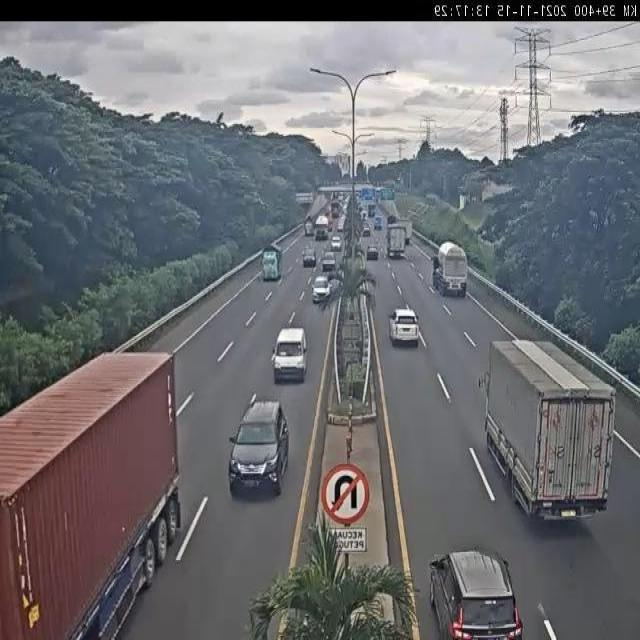Car: (427, 548, 523, 640), (229, 399, 289, 493), (388, 308, 420, 346), (311, 278, 332, 302), (323, 250, 336, 271), (302, 249, 316, 267), (366, 246, 380, 262), (330, 235, 342, 250)
Truck: (0, 352, 176, 640), (485, 336, 614, 526), (430, 242, 468, 297), (260, 242, 282, 286), (386, 227, 406, 257), (314, 215, 328, 240)
Van: (273, 326, 307, 384)
